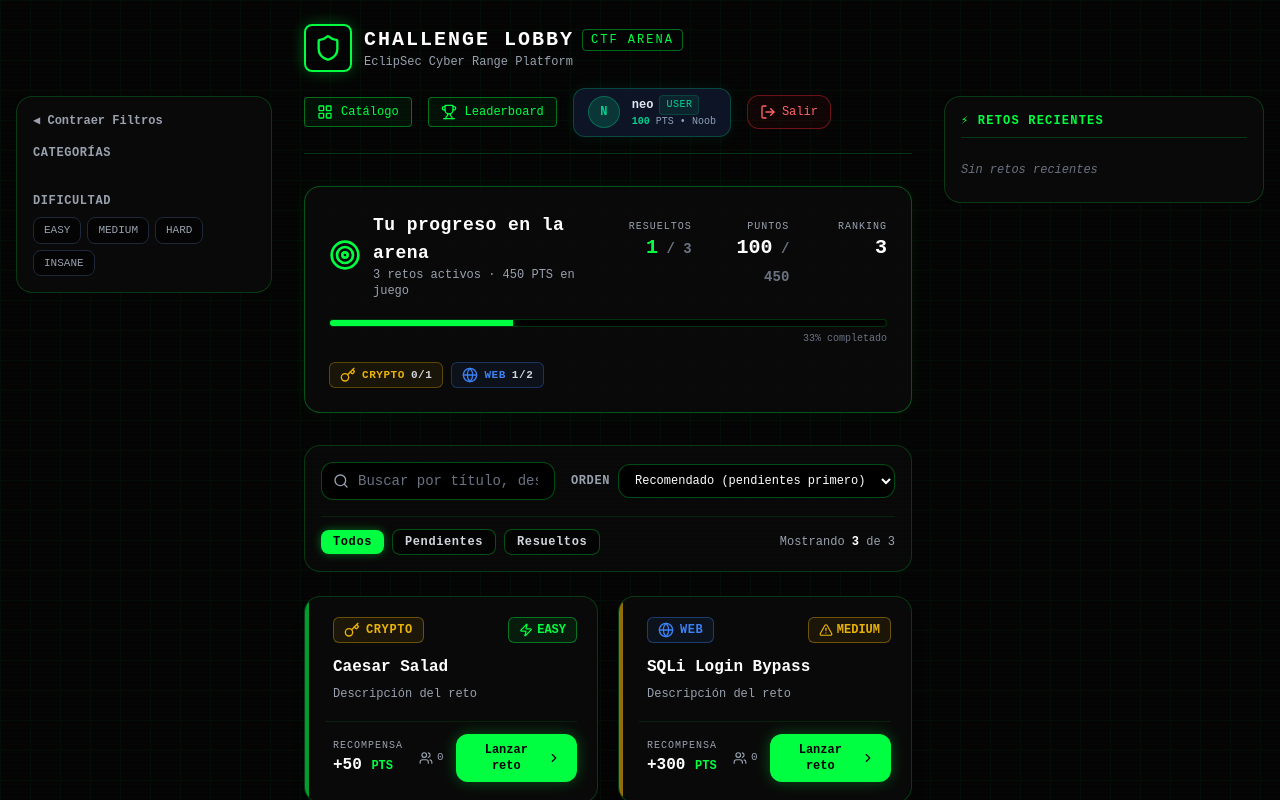
CTFLobby page › shows a filtered-empty state that is distinct from "no challenges", and can clear it
The image size is (1280, 800).
Check: the heading "SQLi Login Bypass" is shown, box [647,658,810,676]
Type "zzz-no-existe" into the field named "buscar retos".
click(438, 481); type("zzz-no-existe")  # box [321,462,555,500]
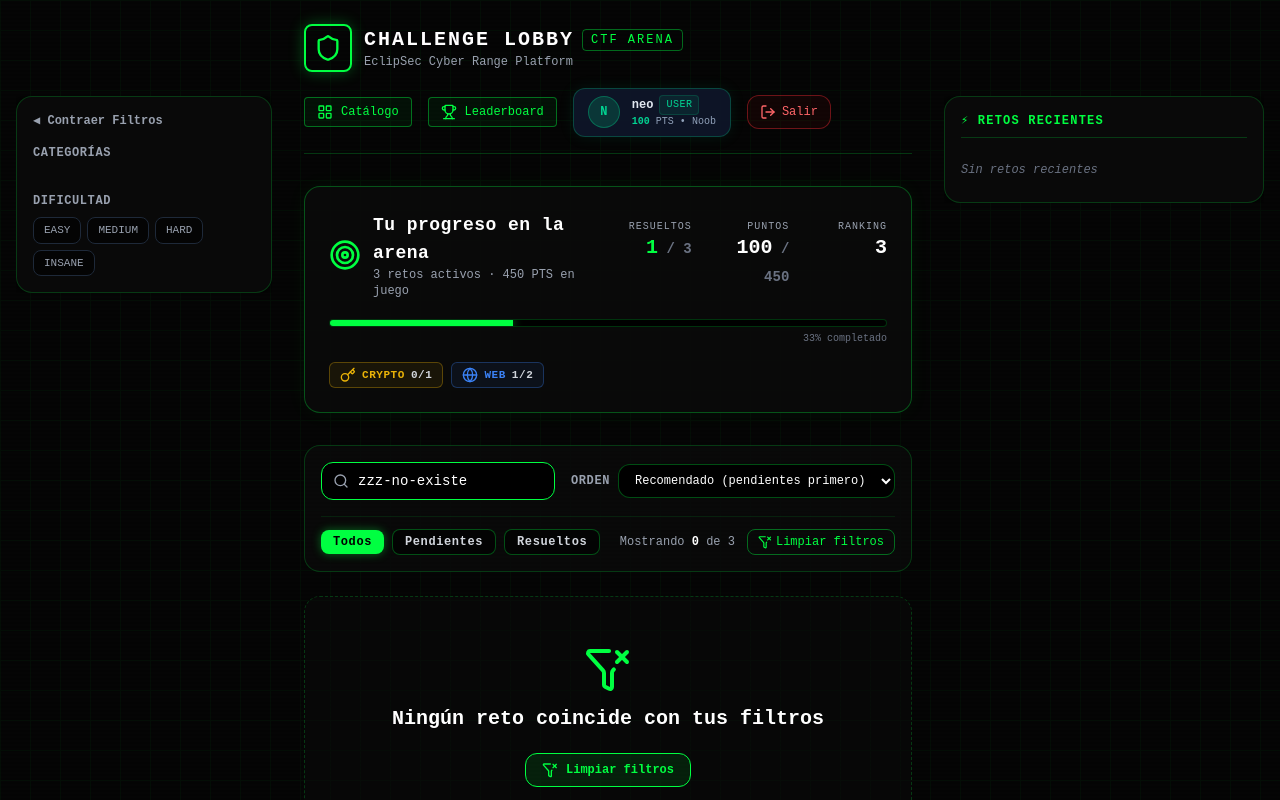
Check: the text "Ningún reto coincide con tus filtros" is shown, box [392,707,824,730]
Click the button "Limpiar filtros" in the row of "Mostrando".
click(821, 542)  # box [747,529,895,555]
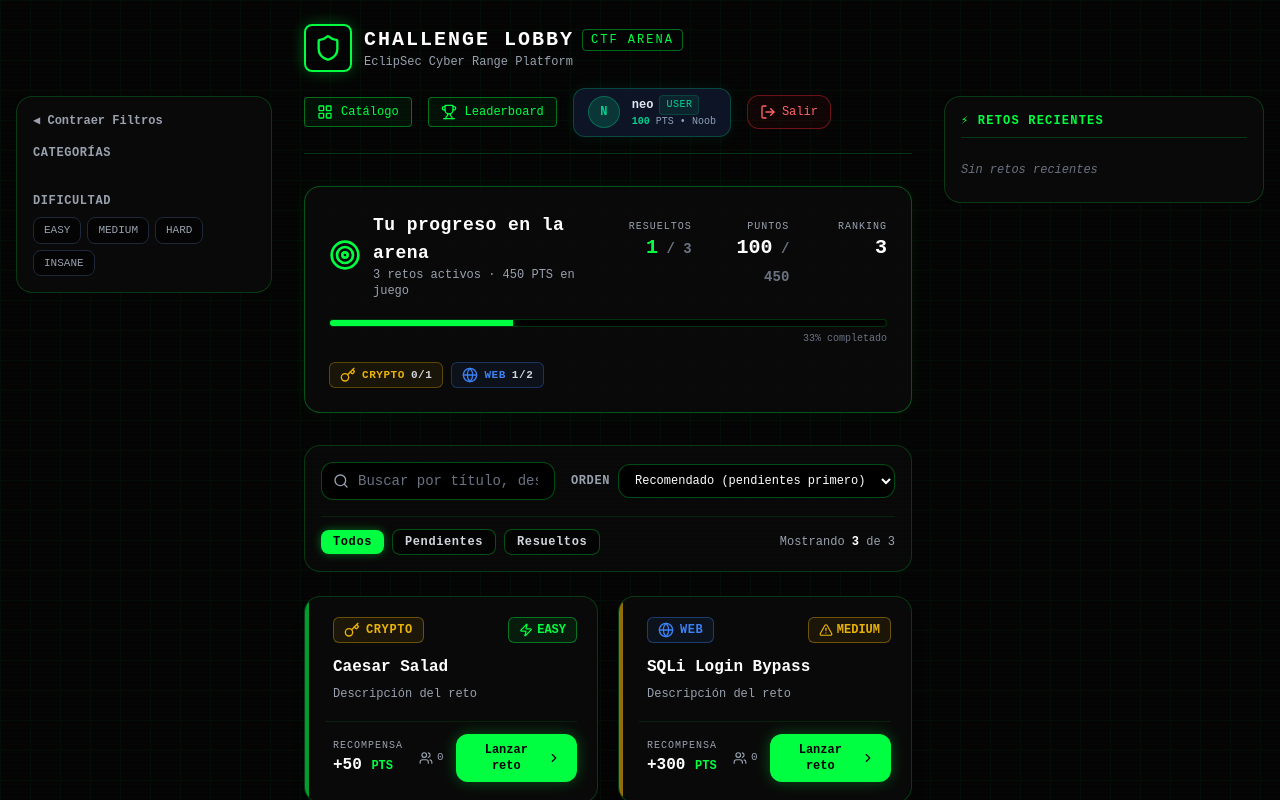
Check: the heading "SQLi Login Bypass" is shown, box [647,658,810,676]
